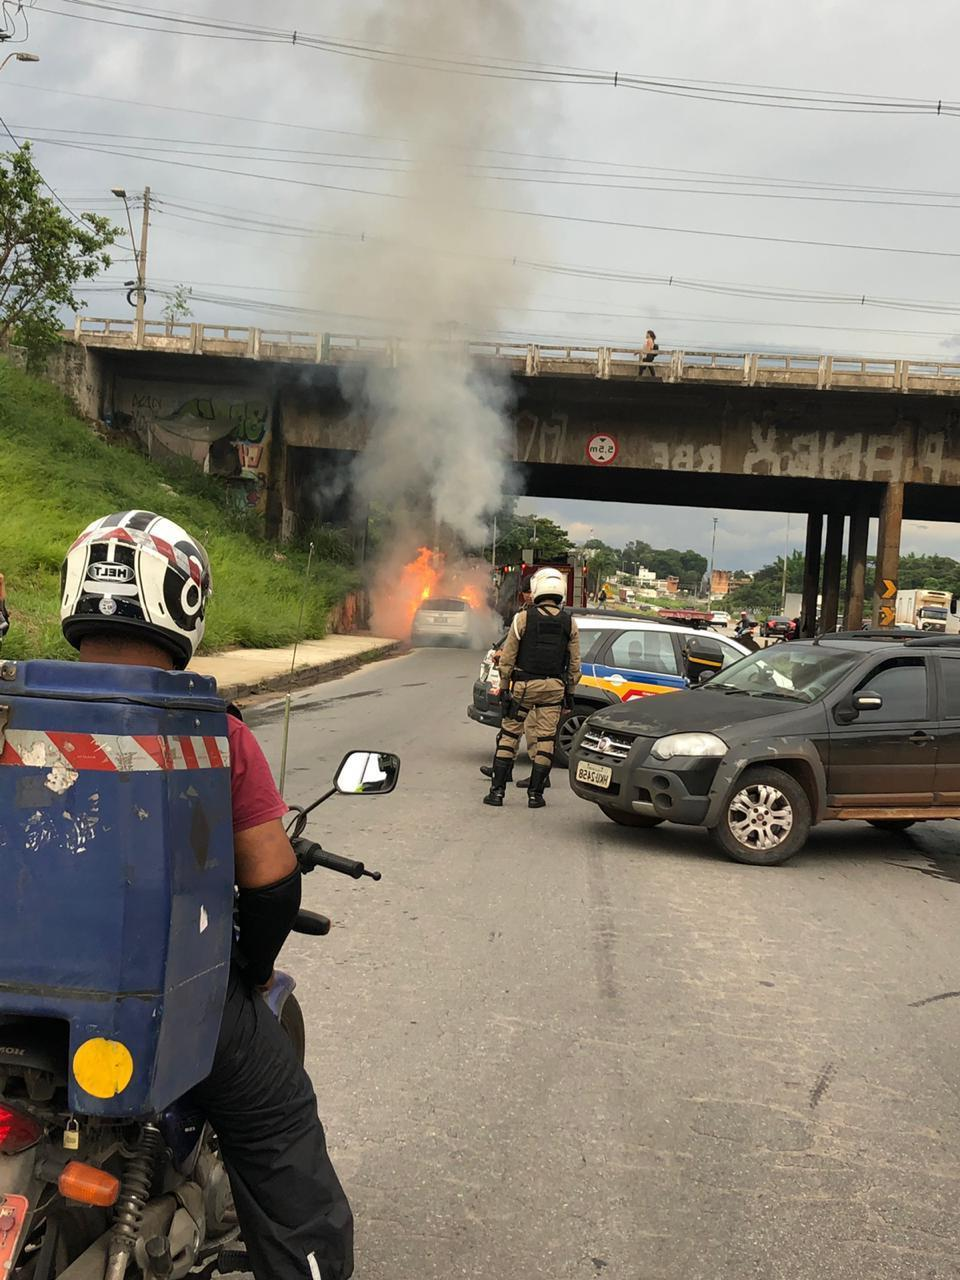Fire: (377, 553, 491, 640)
